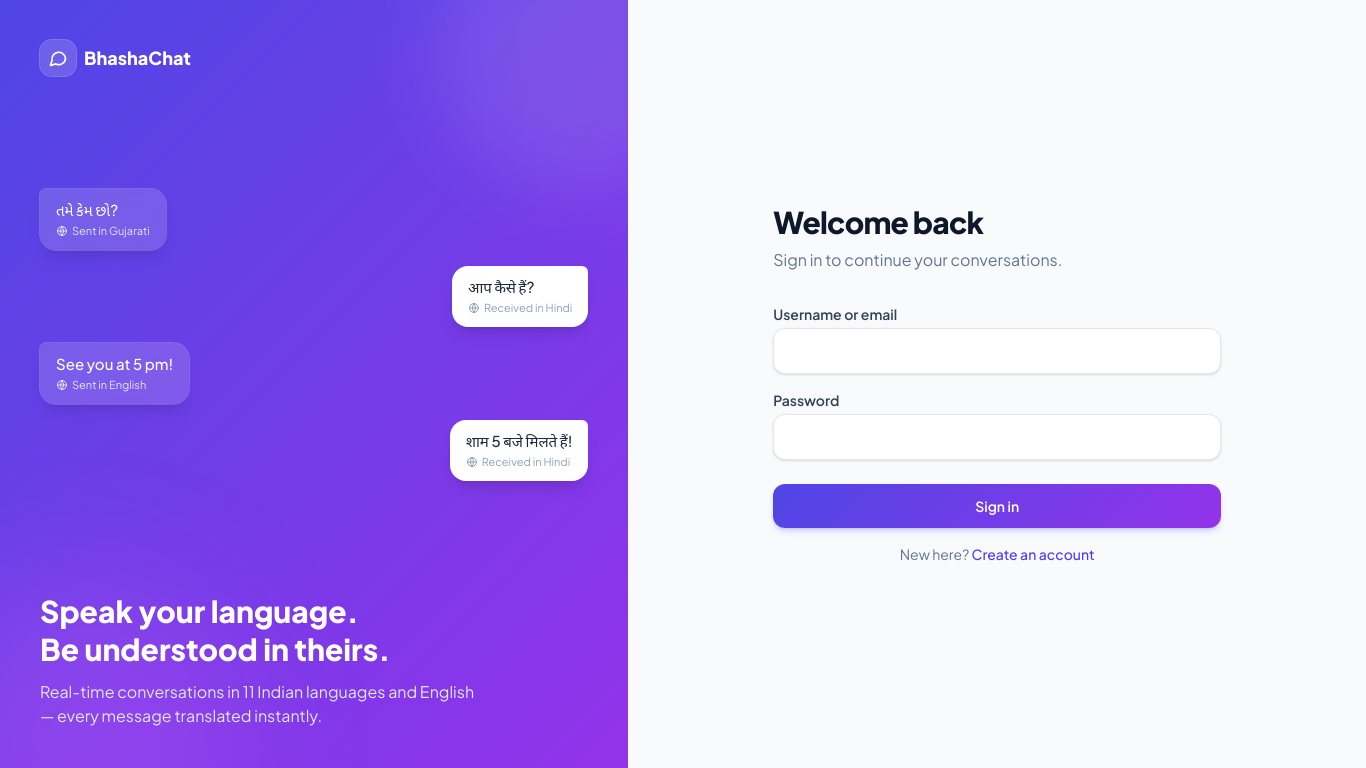
Test case: auth forms › requires both fields before submitting login
The image size is (1366, 768).
Click the button "Sign in": coordinates (997, 506) [773,484,1221,528]
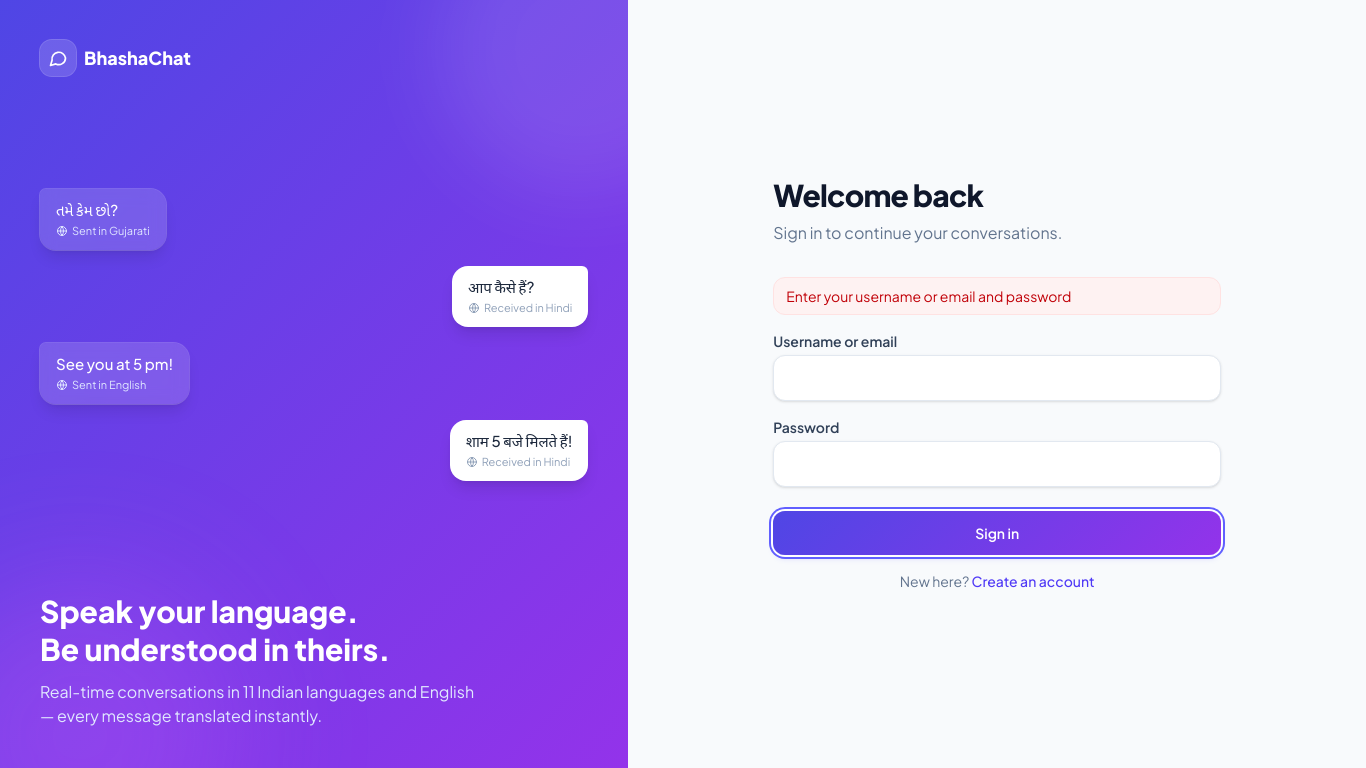
Expected: the message shows "Enter your username", [786,287,1071,305]
